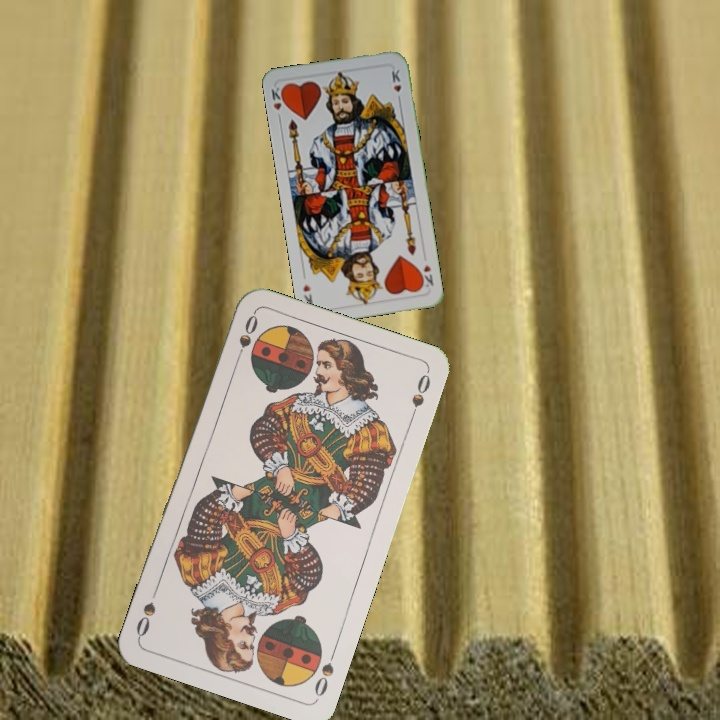HK: (267, 82, 289, 123), (415, 260, 436, 290)
SO: (231, 310, 261, 367), (310, 644, 339, 700)
